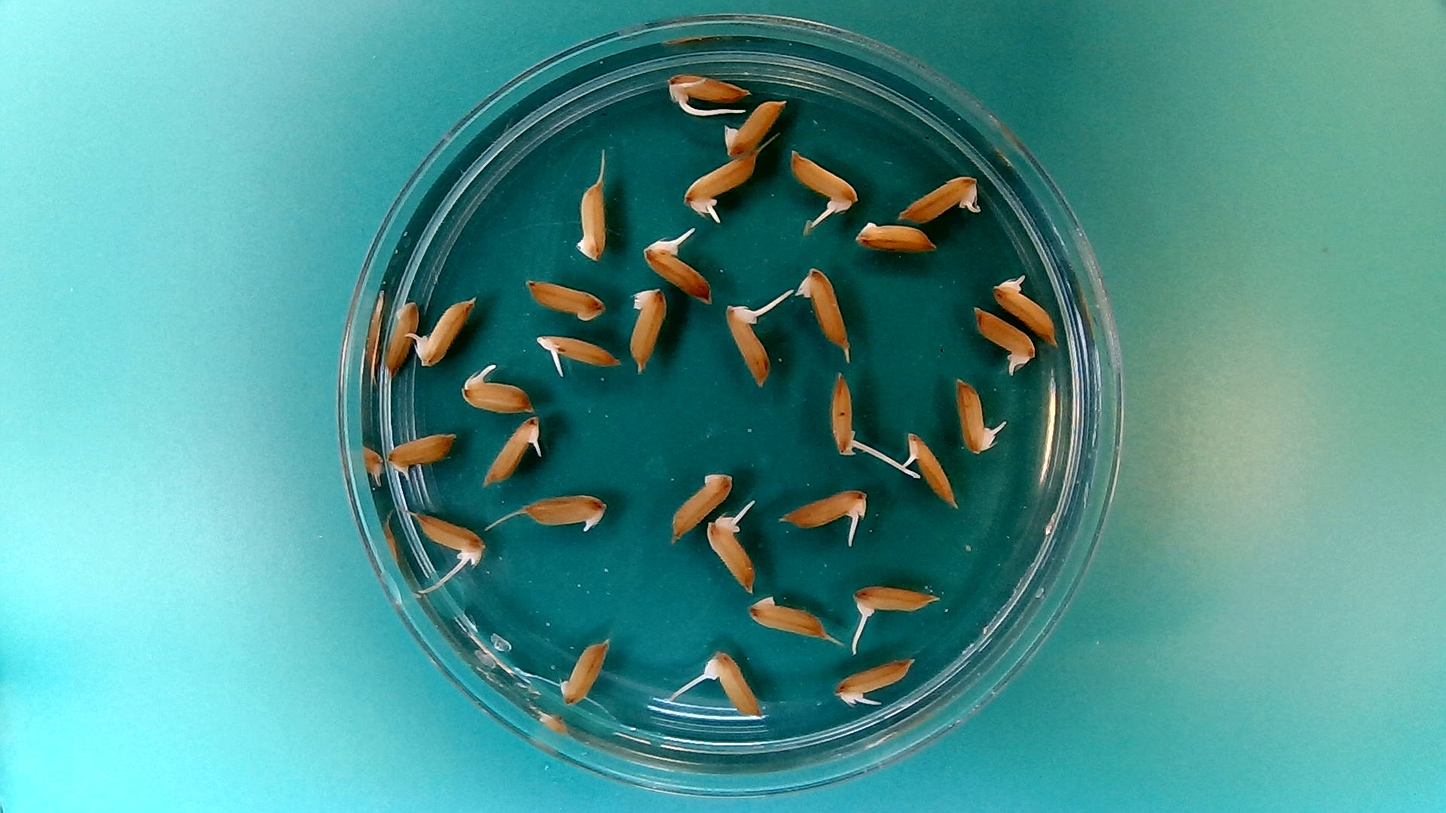no: (671, 465, 735, 537), (801, 267, 852, 355), (553, 633, 614, 706), (520, 276, 609, 324), (743, 592, 830, 639), (718, 99, 786, 157), (630, 288, 669, 378), (381, 295, 422, 379), (855, 220, 941, 257), (383, 426, 453, 470), (575, 180, 610, 266)
yes: (990, 273, 1061, 345), (644, 237, 715, 303), (684, 151, 757, 214), (897, 170, 982, 224), (721, 296, 770, 389), (408, 509, 483, 564), (902, 435, 958, 508), (835, 654, 917, 703), (784, 485, 871, 531), (703, 519, 755, 594), (789, 152, 857, 209), (971, 306, 1036, 364), (708, 653, 764, 720), (486, 419, 542, 486), (416, 300, 469, 368), (670, 75, 755, 115), (825, 373, 862, 459), (520, 495, 606, 532), (536, 337, 623, 372), (853, 583, 935, 619), (956, 383, 993, 456), (465, 375, 535, 413)
